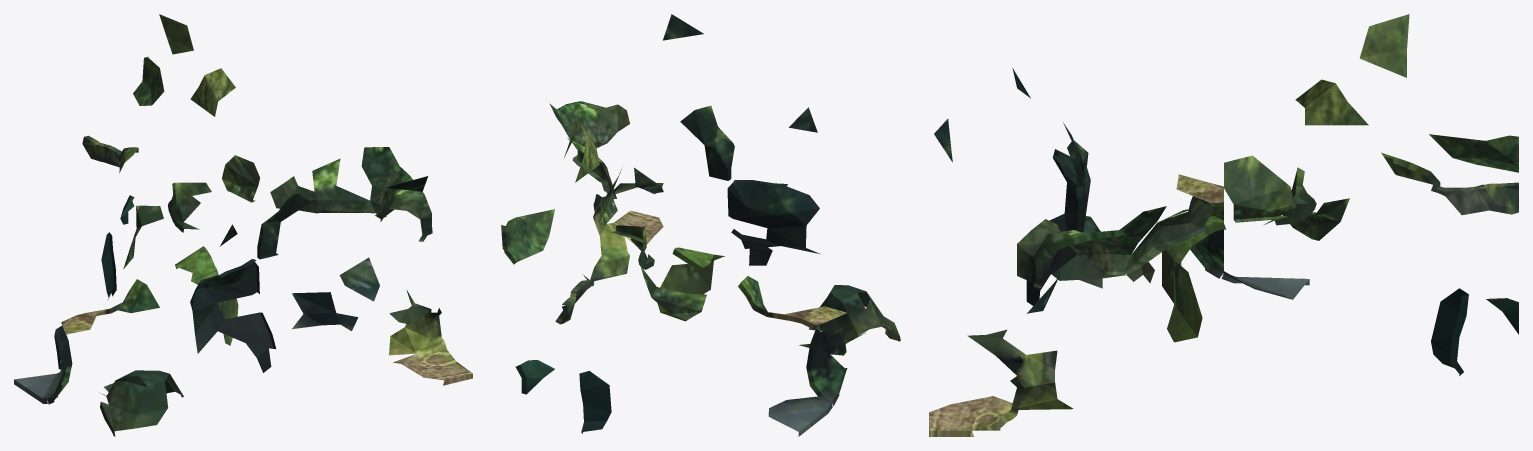
The model's file is BuildingMesh-00001.gltf.
3 views of the same model, side by side, from view 1: azimuth 30°, elevation 25°; view 2: azimuth 150°, elevation 25°; view 3: azimuth 270°, elevation 25° (orthographic). The views are drawn at different scales.
Parts seen in each view (by area): view 1: BuildingMesh-00001; view 2: BuildingMesh-00001; view 3: BuildingMesh-00001.
Boxes of the visible parts, box(x1,y1,x2,y2) form: BuildingMesh-00001: box(14, 14, 472, 436); BuildingMesh-00001: box(501, 14, 900, 436); BuildingMesh-00001: box(929, 14, 1518, 436).
Size of the model in its own units: 0.7765 by 0.7059 by 0.9725.
1 material, 1 textured.
